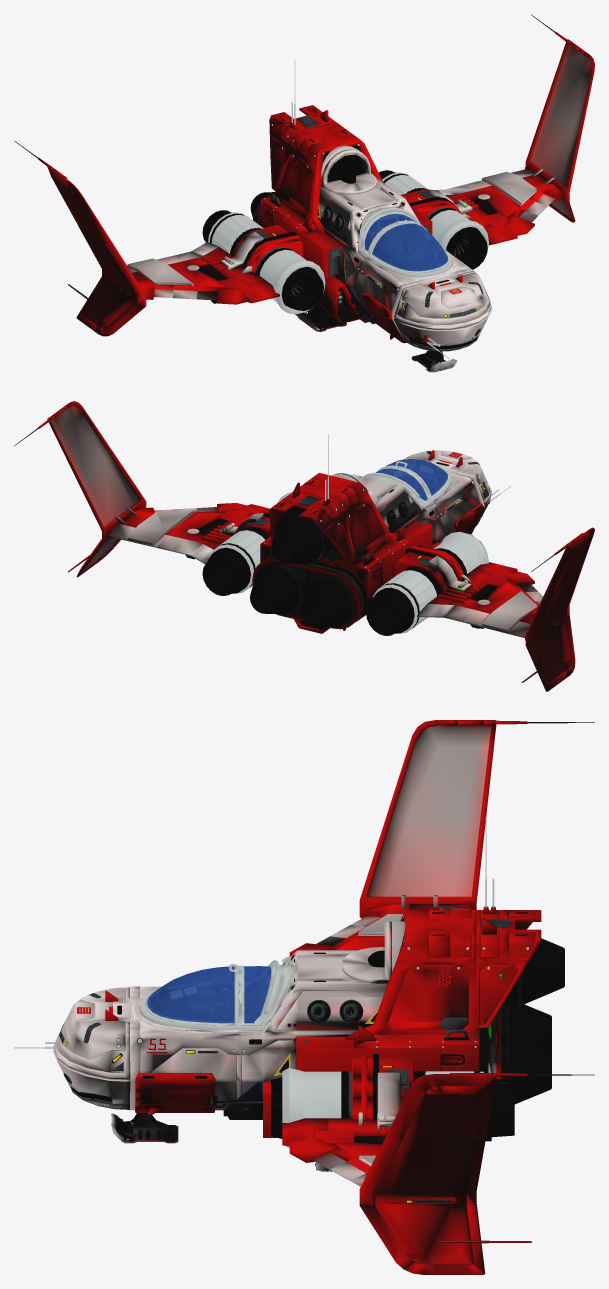
The model's file is guangzhuzi-transformed.glb.
3 views of the same model, one above another, from view 1: azimuth 30°, elevation 25°; view 2: azimuth 150°, elevation 25°; view 3: azimuth 270°, elevation 25° (orthographic). The views are drawn at different scales.
Parts seen in each view (by area): view 1: Base hidra_metal alumi_0; view 2: Base hidra_metal alumi_0; view 3: Base hidra_metal alumi_0.
Boxes of the visible parts, x1=… form: Base hidra_metal alumi_0: x1=14, y1=14, x2=594, y2=372; Base hidra_metal alumi_0: x1=14, y1=401, x2=594, y2=691; Base hidra_metal alumi_0: x1=14, y1=720, x2=594, y2=1274.
Size of the model in its own units: 16.6 by 6.66 by 11.47.
Materials: 14 (14 with a texture image).
